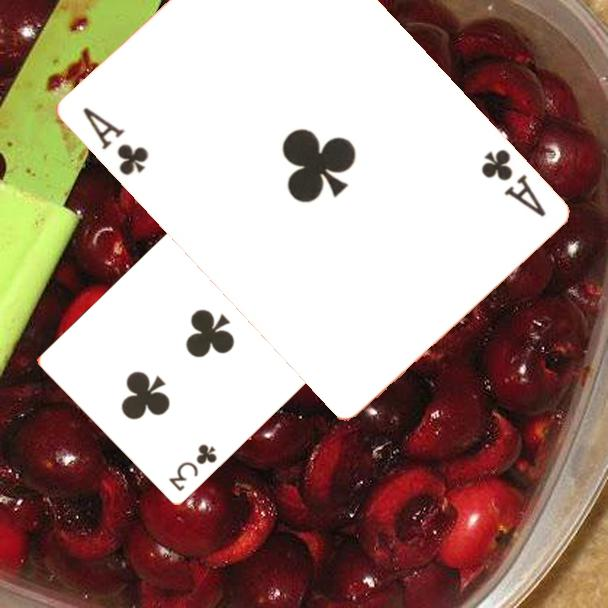c01: (78, 103, 151, 179), (476, 145, 549, 220)
c03: (165, 441, 220, 495)
